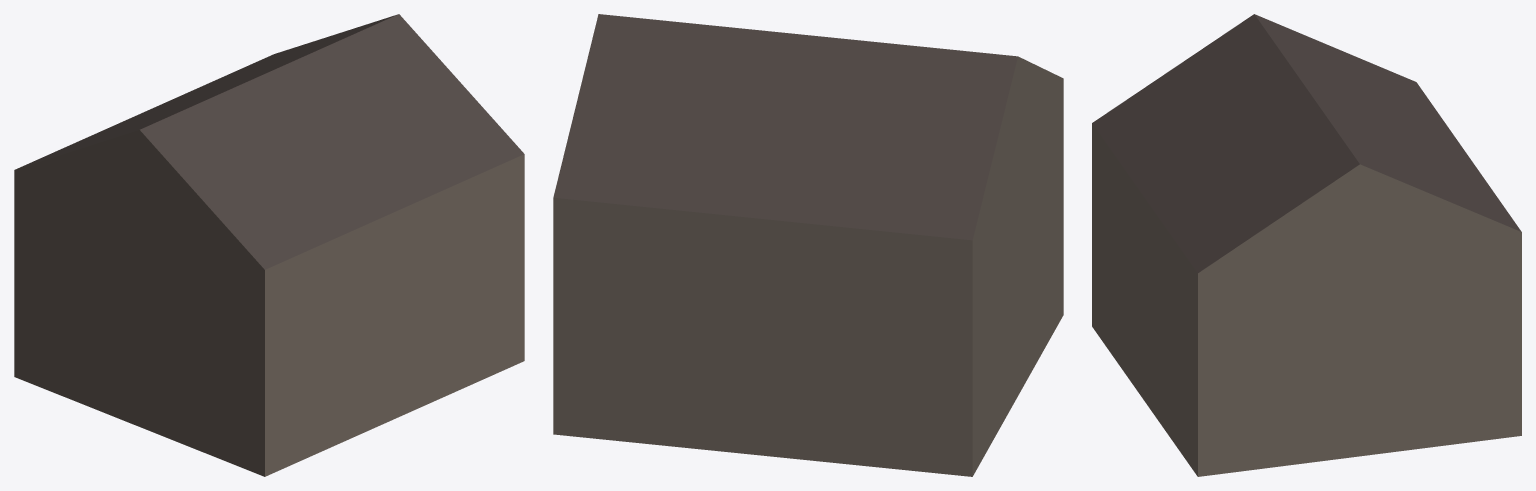
The picture shows the model from 3 angles, left to right: view 1: azimuth 30°, elevation 25°; view 2: azimuth 150°, elevation 25°; view 3: azimuth 270°, elevation 25°; orthographic projection. The views are drawn at different scales.
Visible parts, largest first — view 1: HP-w1376988685; view 2: HP-w1376988685; view 3: HP-w1376988685.
Part boxes in pixels (x1,y1,x2,y2): HP-w1376988685: [14, 14, 524, 476]; HP-w1376988685: [553, 14, 1063, 476]; HP-w1376988685: [1092, 14, 1521, 476].
Bounding box in the file's own units: 12.1 × 8.61 × 11.49.
